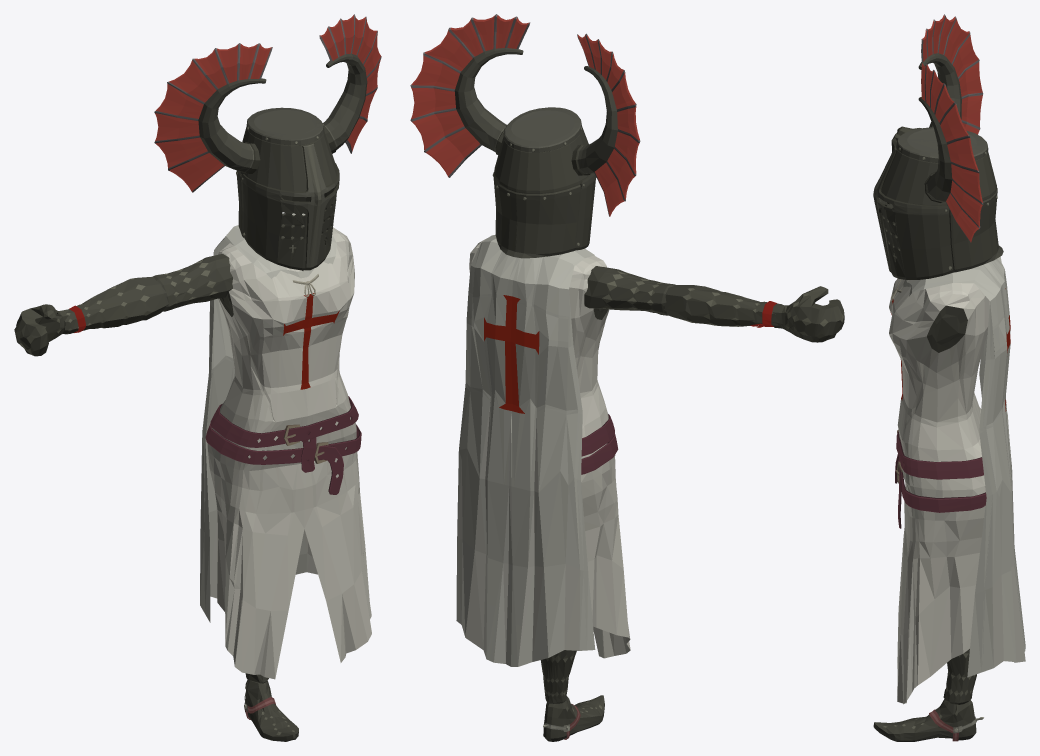
The model's file is templarKnightFemale.glb.
3 views of the same model, side by side, from view 1: azimuth 30°, elevation 25°; view 2: azimuth 150°, elevation 25°; view 3: azimuth 270°, elevation 25° (orthographic). The views are drawn at different scales.
Visible parts, largest first — view 1: templarKnightShirt, templarKnightHelmet, templarKnightLowerArm, templarKnightUpperArm, templarKnightFoot, templarKnightHandArm; view 2: templarKnightShirt, templarKnightHelmet, templarKnightLowerArm, templarKnightUpperArm, templarKnightHandArm, templarKnightFoot, templarKnightLeg; view 3: templarKnightShirt, templarKnightHelmet, templarKnightFoot, templarKnightLeg.
Boxes of the visible parts, x1,y1,x2,y2 form: templarKnightShirt: (200,213,371,679); templarKnightHelmet: (154,14,381,270); templarKnightLowerArm: (63,276,168,334); templarKnightUpperArm: (153,254,232,311); templarKnightFoot: (244,679,298,741); templarKnightHandArm: (14,304,68,356); templarKnightShirt: (456,234,630,666); templarKnightHelmet: (410,14,640,258); templarKnightLowerArm: (663,285,784,327); templarKnightUpperArm: (584,266,675,315); templarKnightHandArm: (772,286,844,342); templarKnightFoot: (543,695,604,741); templarKnightLeg: (540,650,576,703); templarKnightShirt: (889,256,1025,704); templarKnightHelmet: (873,14,1003,279); templarKnightFoot: (873,699,983,741); templarKnightLeg: (943,649,976,704).
Size of the model in its own units: 1.32 by 2.21 by 0.4331.
